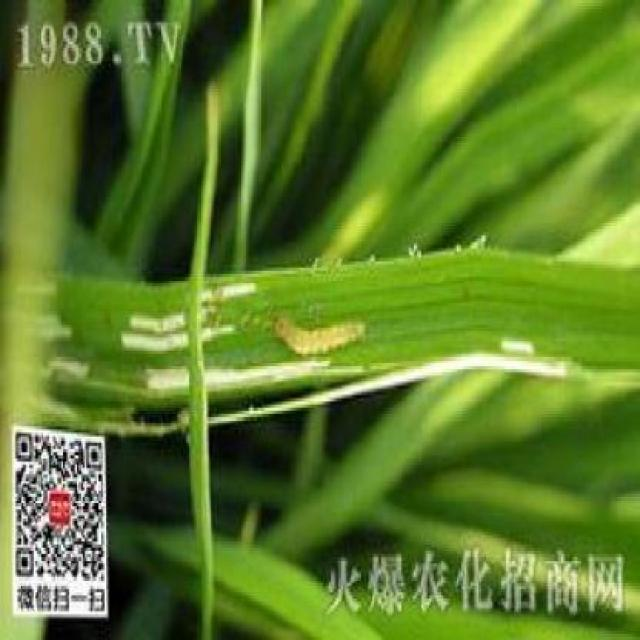leaf-folder: (268, 302, 370, 360)
